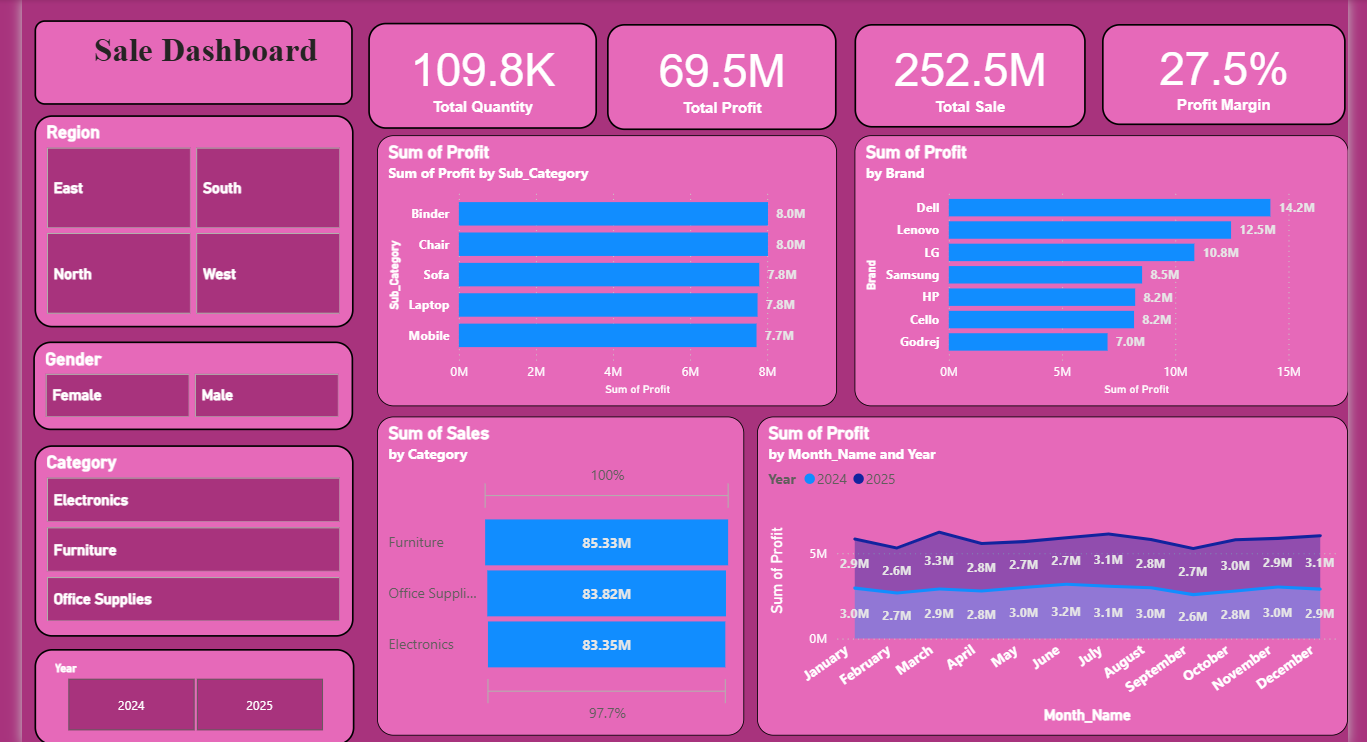

The dashboard page shown, as its layout file describes it:
{"tool":"powerbi","page":{"name":"Page 1","canvas":[1280,720],"ordinal":0},"visuals":[{"type":"textbox","box":[12.5,20,307.5,81.2],"z":0},{"type":"card","fields":{"Values":["Sum(Fact_Sales.Sales)"]},"box":[976.2,20,291.2,102.5],"z":1000},{"type":"clusteredBarChart","fields":{"Category":["Dim_Product.Brand"],"Y":["Sum(Fact_Sales.Profit)"]},"box":[803.5,127.9,476.5,265.4],"z":2000},{"type":"card","fields":{"Values":["Sum(Fact_Sales.Profit)"]},"box":[671.2,20,287.5,102.5],"z":3000},{"type":"advancedSlicerVisual","fields":{"Values":["Dim_Region.Region"]},"box":[12.5,112.5,307.5,213.8],"z":4000},{"type":"card","fields":{"Values":["Sum(Fact_Sales.Quantity)"]},"box":[343.8,20,307.5,102.5],"z":5000},{"type":"advancedSlicerVisual","fields":{"Values":["Dim_Customer.Gender"]},"box":[11.2,336.2,308.8,86.2],"z":6000},{"type":"advancedSlicerVisual","fields":{"Values":["Dim_Product.Category"]},"box":[12.5,432.5,307.5,183.8],"z":7000},{"type":"slicer","fields":{"Values":["Dim_Date.Year"]},"box":[11.2,627.5,308.8,92.5],"z":8000},{"type":"funnel","fields":{"Category":["Dim_Product.Category"],"Y":["Sum(Fact_Sales.Sales)"]},"box":[343.8,403,354.7,307.6],"z":9000},{"type":"clusteredBarChart","title":"Sum of Profit","fields":{"Category":["Dim_Product.Sub_Category"],"Y":["Sum(Fact_Sales.Profit)"]},"box":[342.6,131.5,444,261.8],"z":10000},{"type":"stackedAreaChart","fields":{"Category":["Dim_Date.Month_Name"],"Y":["Sum(Fact_Sales.Profit)"],"Series":["Dim_Date.Year"]},"box":[709.4,403,570.6,307.6],"z":10001}]}

Visuals, with their boxes in screenshot pixels (x1, y1, x2, y2):
textbox: box=[24, 17, 347, 103]
card - Sum(Fact_Sales.Sales): box=[1037, 17, 1343, 125]
clusteredBarChart - Dim_Product.Brand x Sum(Fact_Sales.Profit): box=[856, 131, 1357, 410]
card - Sum(Fact_Sales.Profit): box=[716, 17, 1019, 125]
advancedSlicerVisual - Dim_Region.Region: box=[24, 115, 347, 340]
card - Sum(Fact_Sales.Quantity): box=[372, 17, 696, 125]
advancedSlicerVisual - Dim_Customer.Gender: box=[22, 350, 347, 441]
advancedSlicerVisual - Dim_Product.Category: box=[24, 451, 347, 644]
slicer - Dim_Date.Year: box=[22, 656, 347, 741]
funnel - Dim_Product.Category x Sum(Fact_Sales.Sales): box=[372, 420, 745, 741]
"Sum of Profit" clusteredBarChart: box=[371, 135, 838, 410]
stackedAreaChart - Dim_Date.Month_Name x Sum(Fact_Sales.Profit): box=[757, 420, 1357, 741]
